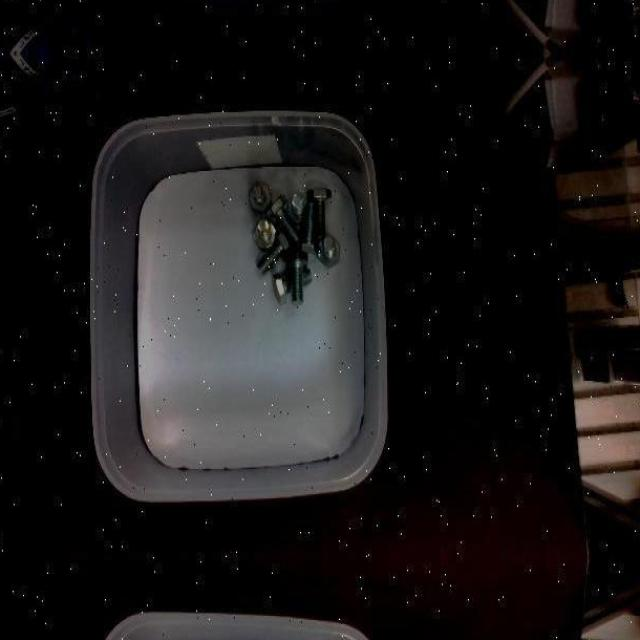screw: (308, 186, 332, 238), (286, 250, 308, 306), (318, 235, 340, 267), (253, 217, 275, 248), (250, 181, 272, 211)
